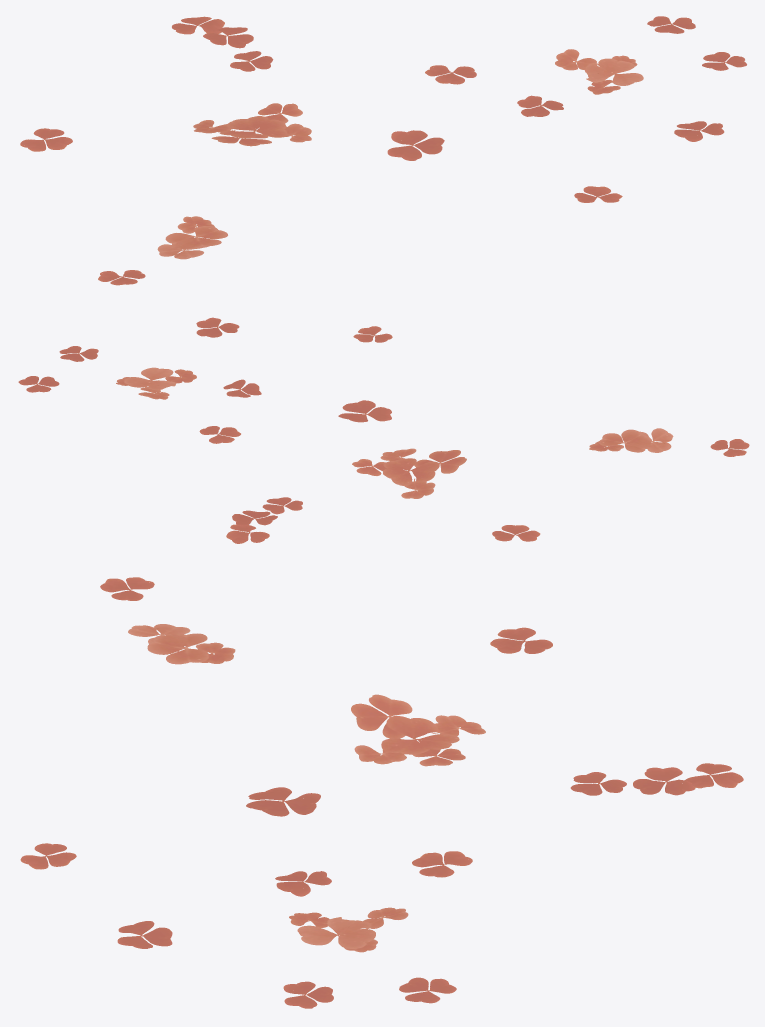
The picture shows the model from 3 angles, top to bottom: view 1: azimuth 30°, elevation 25°; view 2: azimuth 150°, elevation 25°; view 3: azimuth 270°, elevation 25°; orthographic projection. The views are drawn at different scales.
Parts seen in each view (by area): view 1: SM_Desert_Thyme_01_LOD0; view 2: SM_Desert_Thyme_01_LOD0; view 3: SM_Desert_Thyme_01_LOD0.
Part boxes in pixels (<box>): SM_Desert_Thyme_01_LOD0: <box>20,16,746,285</box>; SM_Desert_Thyme_01_LOD0: <box>18,317,749,543</box>; SM_Desert_Thyme_01_LOD0: <box>20,577,743,1008</box>.
Size of the model in its own units: 1.29 by 0.0326 by 0.9274.
1 material, 1 textured.
